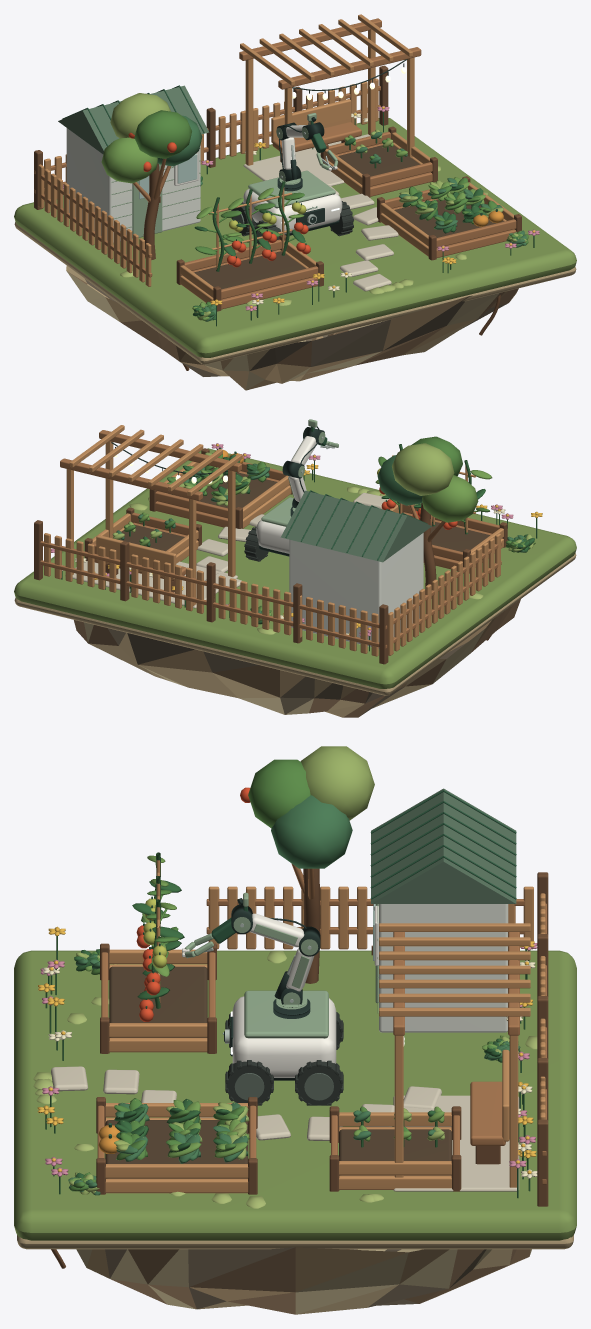
Rendered from spacefruit-floating-garden.glb.
3 renders of one model, top to bottom at view 1: azimuth 30°, elevation 25°; view 2: azimuth 150°, elevation 25°; view 3: azimuth 270°, elevation 25°, orthographic. The views are drawn at different scales.
Visible parts, largest first — view 1: Grass top, Cedar end grain, Island earth 0 / Island earth 1 / Island earth 2 / Island ea, Warm cedar, Shed cloud white, Raised bed soil, Foliage 1, Wood trim, Warm limestone path, Island earth 2, Foliage 2, Sage green shells (+11 smaller); view 2: Grass top, Cedar end grain, Island earth 0 / Island earth 1 / Island earth 2 / Island ea, Warm cedar, Shed cloud white, Shed sage roof, Wood trim, Island earth 2, Foliage 3, Raised bed soil, Foliage 2, Warm limestone path (+10 smaller); view 3: Grass top, Cedar end grain, Island earth 0 / Island earth 1 / Island earth 2 / Island ea, Shed sage roof, Raised bed soil, Shed cloud white, Wood trim, Warm limestone path, Warm cedar, Foliage 4, Sage green shells, Island earth 2 (+13 smaller).
Boxes of the visible parts, left/top/right/bottom form: Grass top: left=14, top=118, right=576, bottom=357; Cedar end grain: left=38, top=14, right=513, bottom=302; Island earth 0 / Island earth 1 / Island earth 2 / Island ea: left=66, top=266, right=518, bottom=390; Warm cedar: left=34, top=18, right=516, bottom=309; Shed cloud white: left=66, top=128, right=200, bottom=242; Raised bed soil: left=194, top=145, right=503, bottom=289; Foliage 1: left=134, top=110, right=528, bottom=318; Wood trim: left=34, top=65, right=521, bottom=370; Warm limestone path: left=243, top=134, right=398, bottom=291; Island earth 2: left=14, top=222, right=576, bottom=364; Foliage 2: left=101, top=135, right=525, bottom=320; Sage green shells: left=111, top=113, right=338, bottom=238; Grass top: left=14, top=448, right=576, bottom=688; Cedar end grain: left=44, top=425, right=503, bottom=656; Island earth 0 / Island earth 1 / Island earth 2 / Island ea: left=74, top=599, right=520, bottom=717; Warm cedar: left=40, top=430, right=501, bottom=648; Shed cloud white: left=289, top=533, right=423, bottom=648; Shed sage roof: left=280, top=490, right=431, bottom=562; Wood trim: left=34, top=448, right=507, bottom=664; Island earth 2: left=14, top=553, right=576, bottom=695; Foliage 3: left=112, top=443, right=533, bottom=620; Raised bed soil: left=119, top=466, right=489, bottom=551; Foliage 2: left=124, top=465, right=535, bottom=619; Warm limestone path: left=65, top=492, right=389, bottom=608; Grass top: left=14, top=950, right=576, bottom=1240; Cedar end grain: left=105, top=860, right=545, bottom=1193; Island earth 0 / Island earth 1 / Island earth 2 / Island ea: left=76, top=1247, right=531, bottom=1314; Shed sage roof: left=371, top=788, right=516, bottom=903; Raised bed soil: left=105, top=966, right=452, bottom=1178; Shed cloud white: left=379, top=904, right=508, bottom=1032; Wood trim: left=51, top=868, right=548, bottom=1268; Warm limestone path: left=51, top=1066, right=519, bottom=1191; Warm cedar: left=97, top=863, right=546, bottom=1184; Foliage 4: left=68, top=795, right=520, bottom=1195; Sage green shells: left=184, top=892, right=378, bottom=1038; Island earth 2: left=17, top=1235, right=573, bottom=1249.
Size of the model in its own units: 8.7 by 6.57 by 7.6.
